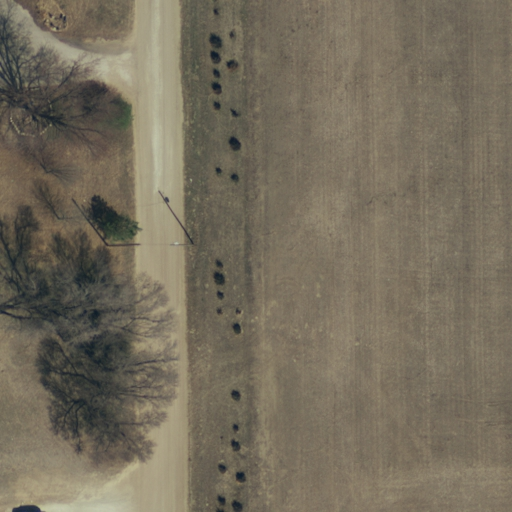DT: (102, 233, 142, 256), (168, 235, 201, 254)
